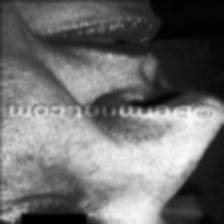Potentially Malignant Skin Tumors: (34, 160, 85, 188)
